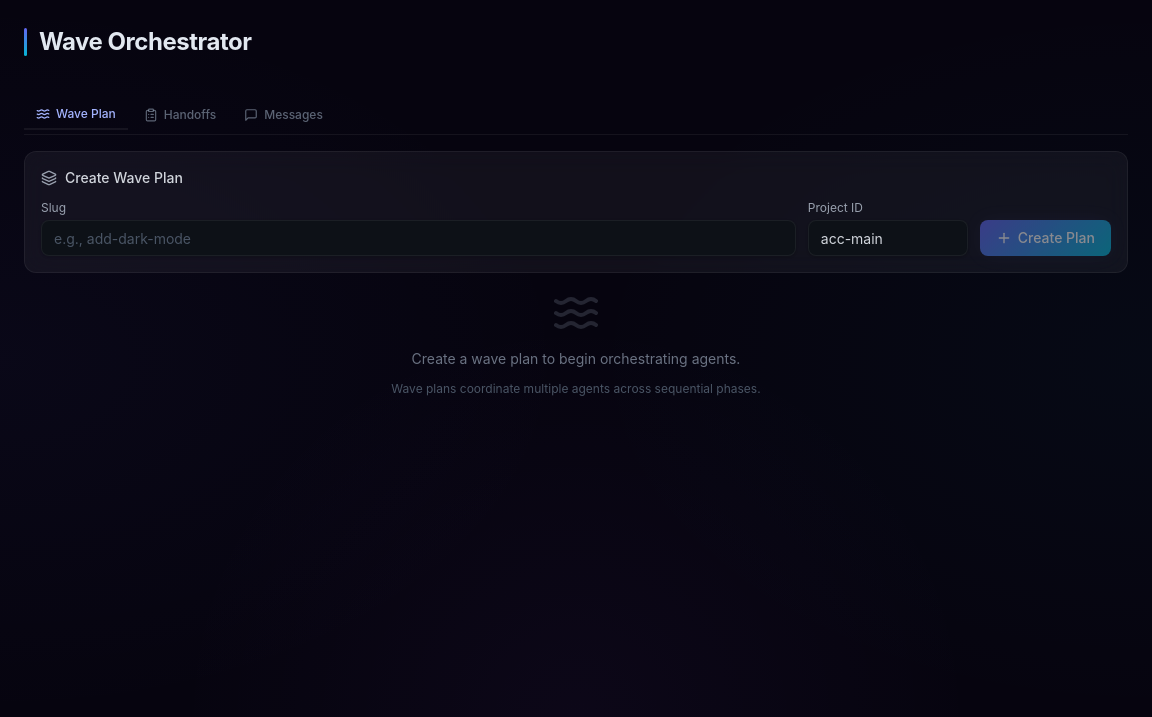
Test: Orchestrate tabs › switches to Handoffs panel on tab click
Click the tab "Handoffs" at (180, 115), box [132,100,228,130]
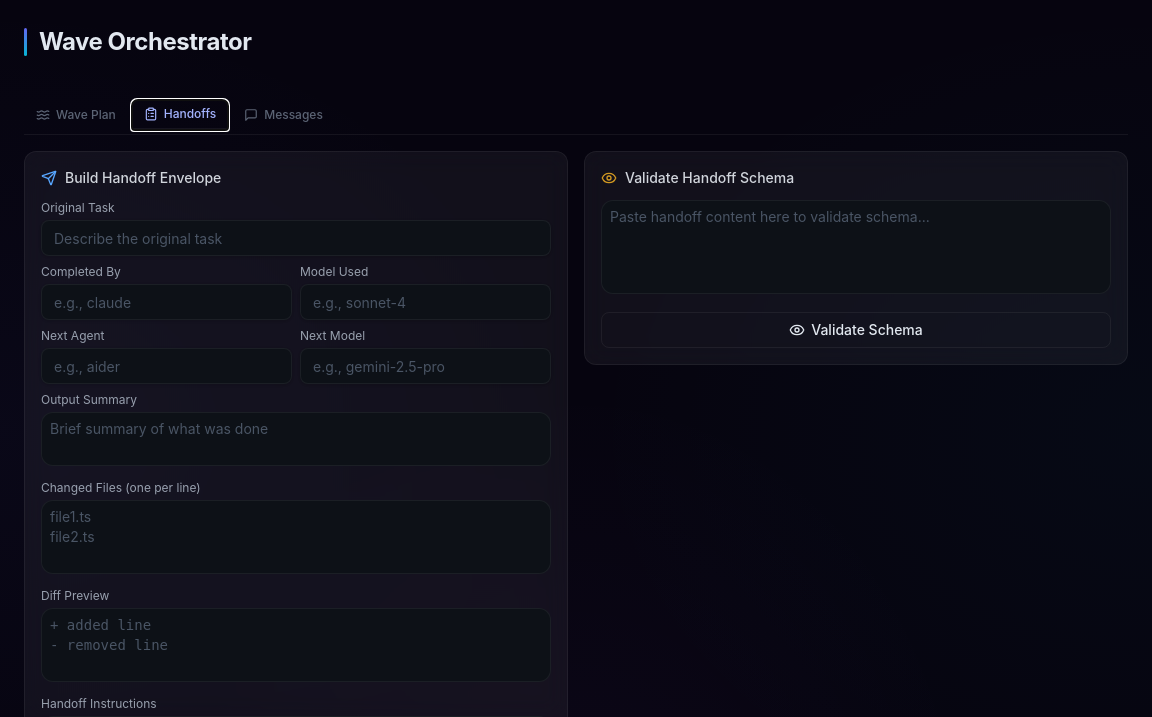
Now the text "Build Handoff Envelope" is shown, box [65,168,221,188]
